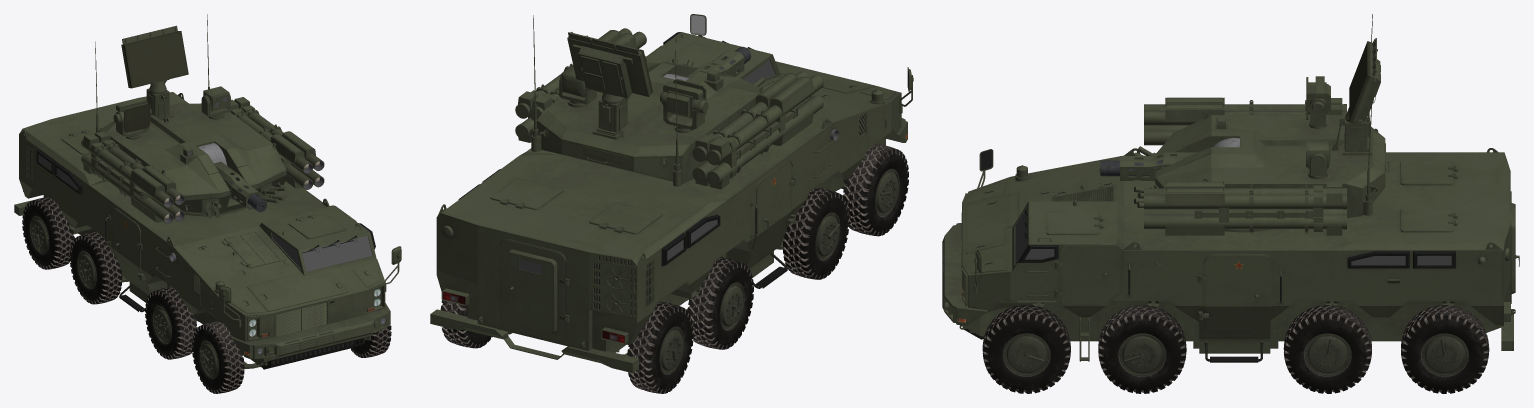
The picture shows the model from 3 angles, left to right: view 1: azimuth 30°, elevation 25°; view 2: azimuth 150°, elevation 25°; view 3: azimuth 270°, elevation 25°; orthographic projection. The views are drawn at different scales.
Parts seen in each view (by area): view 1: Object_2, Object_3, Object_4, Object_5; view 2: Object_2, Object_3, Object_4, Object_5; view 3: Object_2, Object_4, Object_3, Object_5.
Boxes of the visible parts, left/top/right/bottom form: Object_2: left=14, top=92, right=401, bottom=369; Object_3: left=94, top=14, right=286, bottom=218; Object_4: left=22, top=197, right=391, bottom=393; Object_5: left=38, top=96, right=372, bottom=271; Object_2: left=430, top=14, right=913, bottom=372; Object_3: left=531, top=15, right=773, bottom=186; Object_4: left=440, top=144, right=908, bottom=393; Object_5: left=519, top=60, right=775, bottom=274; Object_2: left=942, top=97, right=1519, bottom=362; Object_4: left=982, top=305, right=1489, bottom=393; Object_3: left=1099, top=14, right=1389, bottom=217; Object_5: left=1015, top=209, right=1451, bottom=265.
Bounding box in the file's own units: 4.14 × 5.36 × 9.43.
4 materials, 4 textured.
